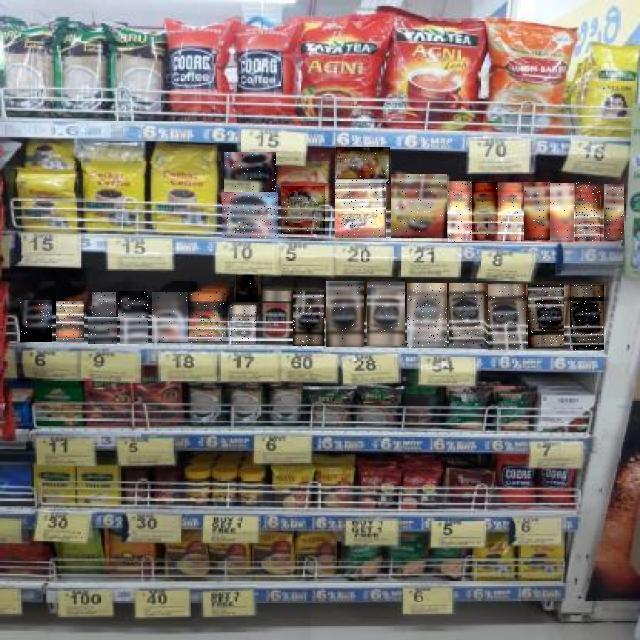Coffee: (391, 174, 447, 238), (336, 182, 390, 238), (407, 284, 447, 348), (222, 193, 278, 238), (327, 281, 365, 347), (489, 284, 527, 350), (367, 282, 405, 346), (450, 284, 488, 348), (528, 284, 564, 348), (570, 285, 604, 350), (282, 186, 328, 234), (224, 153, 276, 193), (336, 148, 390, 184), (190, 293, 226, 345), (152, 292, 188, 342), (293, 291, 324, 347), (575, 183, 601, 243), (525, 182, 551, 240), (499, 182, 525, 240), (448, 181, 472, 242), (472, 182, 497, 240), (550, 184, 575, 242), (20, 300, 52, 342), (604, 185, 624, 241), (56, 302, 84, 342), (230, 305, 256, 344), (118, 292, 148, 318), (88, 318, 117, 344), (121, 318, 149, 344), (236, 275, 258, 302), (92, 293, 116, 317)
